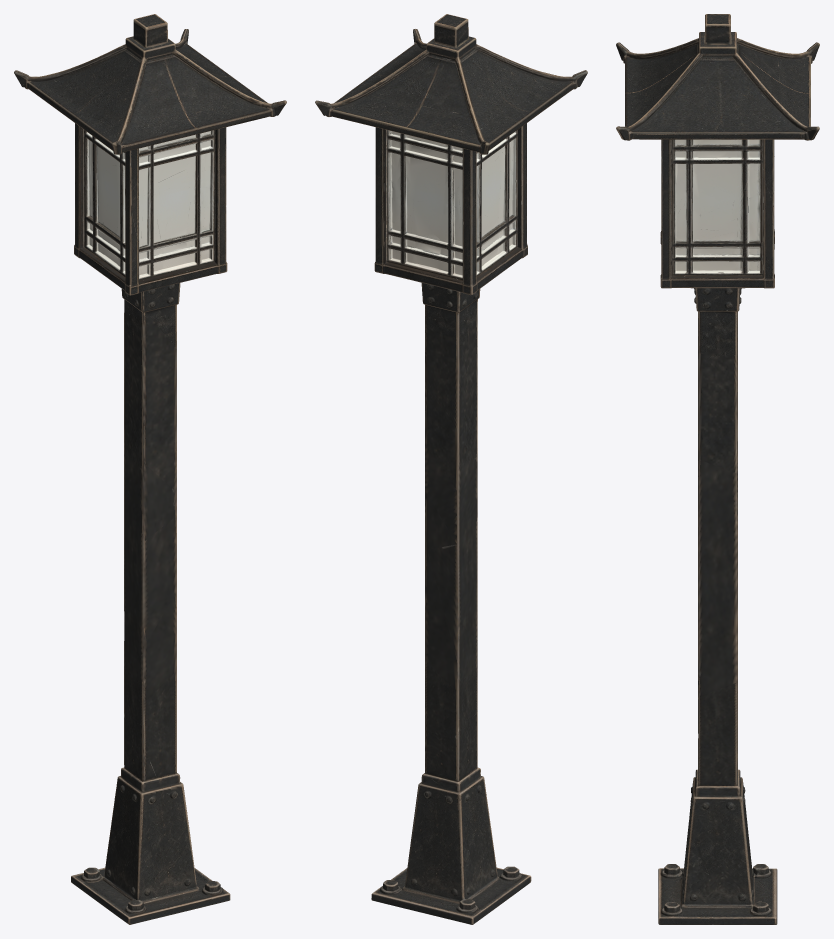
Rendered from japanese_path_lamp_2800.glb.
3 views of the same model, side by side, from view 1: azimuth 30°, elevation 25°; view 2: azimuth 150°, elevation 25°; view 3: azimuth 270°, elevation 25° (orthographic).
Parts seen in each view (by area): view 1: Mesh_0; view 2: Mesh_0; view 3: Mesh_0.
Part boxes in pixels (bbox=[...]): Mesh_0: bbox=[14, 14, 286, 924]; Mesh_0: bbox=[315, 14, 587, 924]; Mesh_0: bbox=[616, 14, 819, 924].
Bounding box in the file's own units: 0.5878 × 2.8 × 0.5871.
1 material, 1 textured.
